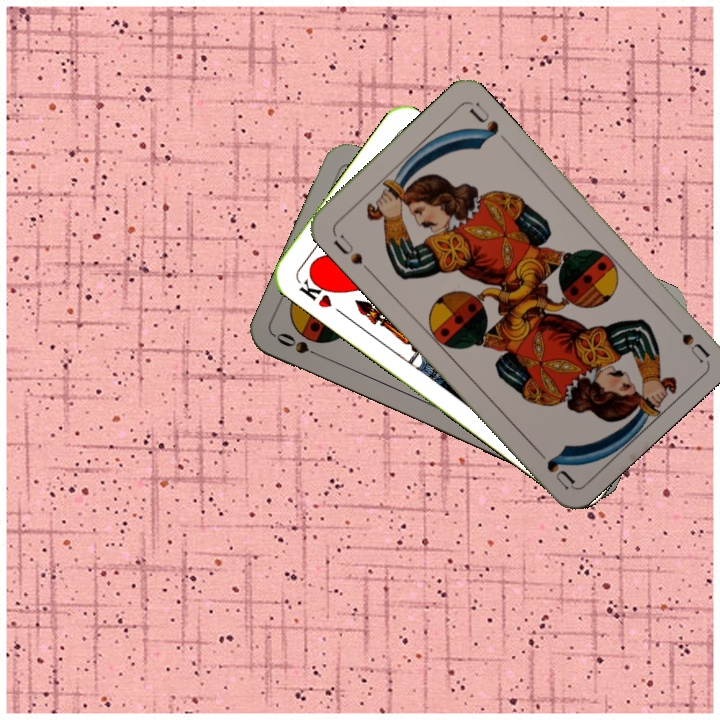HK: (294, 271, 336, 311)
SO: (272, 328, 328, 362)
SU: (663, 313, 711, 364), (329, 230, 374, 276)
